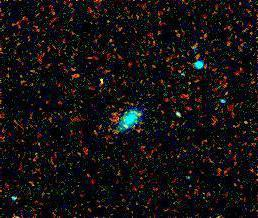star: (58, 59, 88, 89)
